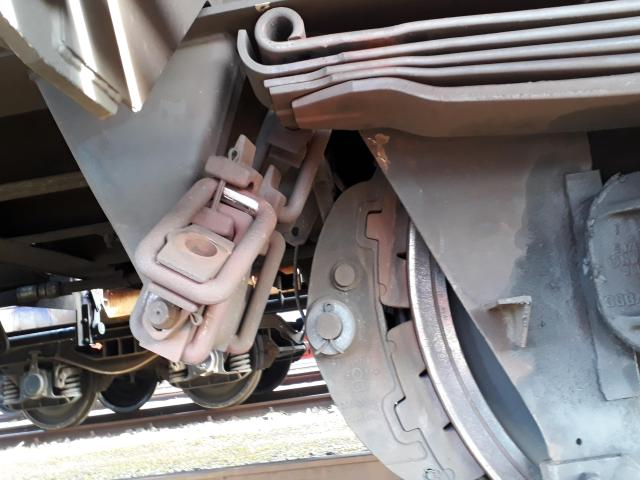blattfederww: (219, 10, 640, 105)
